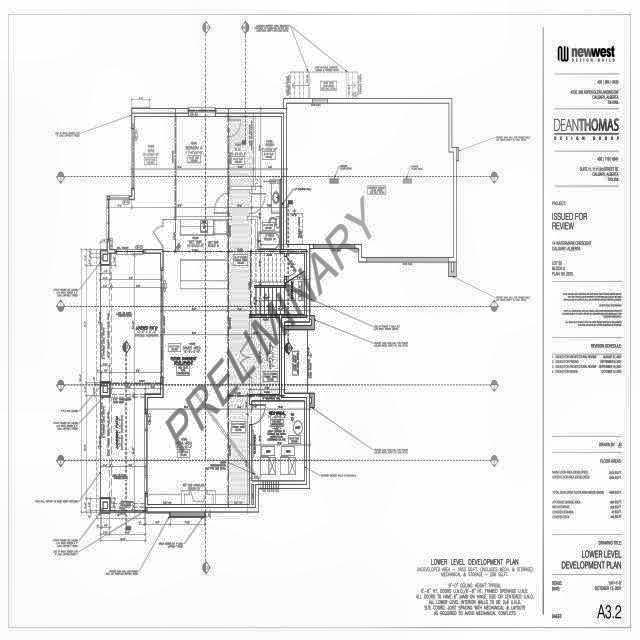room: (176, 116, 227, 217), (252, 401, 304, 481), (252, 318, 279, 394), (252, 183, 280, 250), (230, 117, 253, 186), (256, 117, 281, 180)
